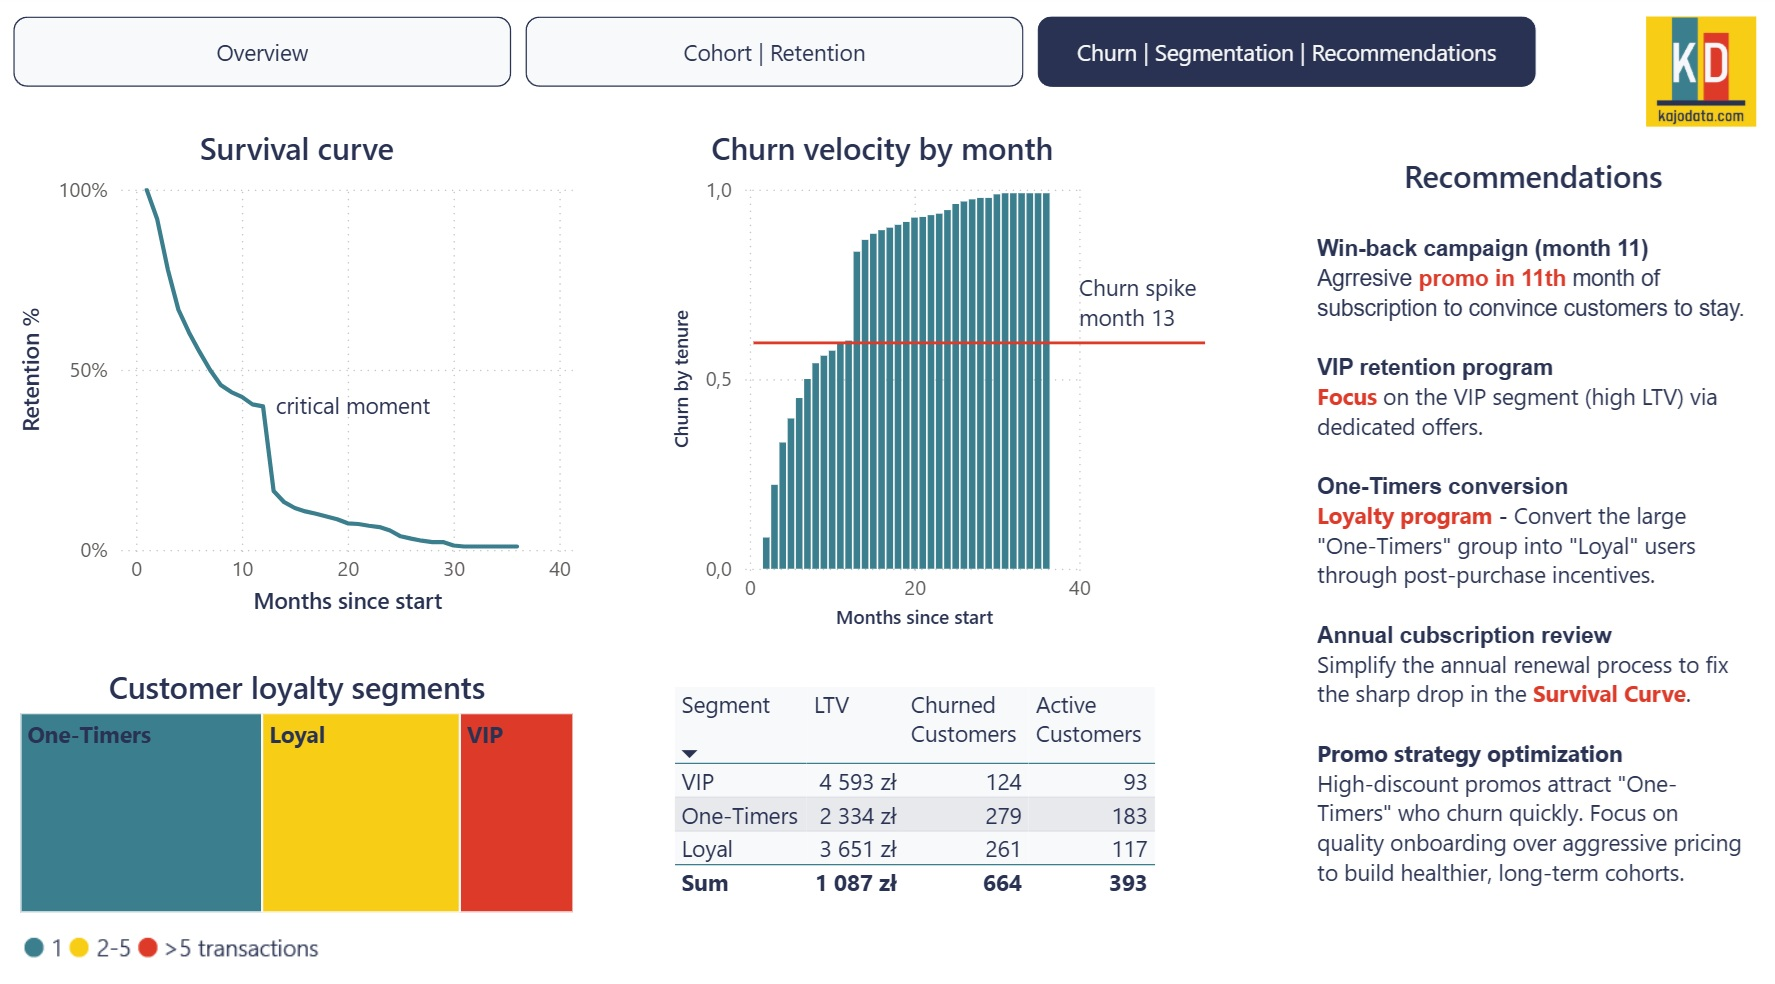

Layout of this report page (visuals, bound fields, positions):
{"tool":"powerbi","page":{"name":"Churn | Segmentation | Recommendations","canvas":[1280,720],"ordinal":2},"visuals":[{"type":"pageNavigator","box":[23.8,17.8,1083.6,50.5],"z":0},{"type":"textbox","title":" Recommendations","box":[945.3,115.7,317.2,604.5],"z":1000},{"type":"image","box":[1184.1,17.4,78.4,78.4],"z":2000},{"type":"lineChart","title":"Survival curve","fields":{"Category":["Months_table.month_index"],"Y":["Sale.Retention %"]},"box":[23.6,95.8,403,352],"z":3000},{"type":"clusteredColumnChart","title":"Churn velocity by month","fields":{"Category":["Months_table.month_index"],"Y":["Sale.Churn by Tenure"]},"box":[487.6,95.8,307.2,361.9],"z":4000},{"type":"shape","box":[549.7,221.4,320.9,56],"z":5000},{"type":"textbox","box":[776.1,194,107,56],"z":6000},{"type":"treemap","title":"Customer loyalty segments","fields":{"Group":["Order_count.customer_segments"],"Values":["CountNonNull(Order_count.customer_ID)"]},"box":[23.6,478.8,403,180.3],"z":7000},{"type":"tableEx","fields":{"Values":["Order_count.customer_segments","Sale.LTV","Sale.Churned Customers","Sale.Active Customers"]},"box":[487.6,488.8,383.1,195.3],"z":8000},{"type":"image","box":[26.1,659.2,218.9,41],"z":9000},{"type":"textbox","box":[205.2,277.4,150.5,32.3],"z":10000}]}

Visuals, with their boxes in screenshot pixels (x1, y1, x2, y2), scaled from the page's 1280x720 canvas onto the 1775x984 screenshot:
pageNavigator: 33,24,1536,93
" Recommendations" textbox: 1311,158,1751,983
image: 1642,24,1751,131
"Survival curve" lineChart: 33,131,592,612
"Churn velocity by month" clusteredColumnChart: 676,131,1102,626
shape: 762,303,1207,379
textbox: 1076,265,1225,342
"Customer loyalty segments" treemap: 33,654,592,901
tableEx - Order_count.customer_segments x Sale.LTV: 676,668,1207,935
image: 36,901,340,957
textbox: 285,379,493,423
